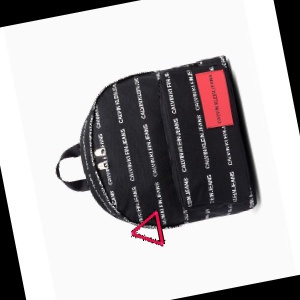triangle: (129, 209, 167, 249)
